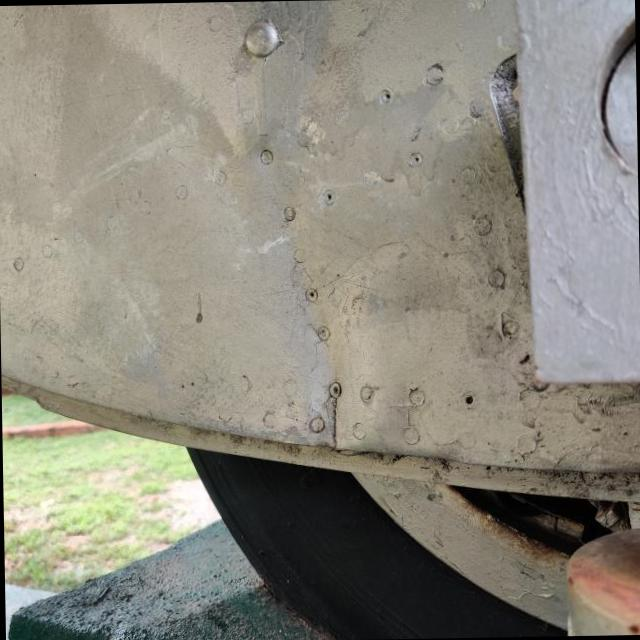Crack: (323, 393, 340, 449)
